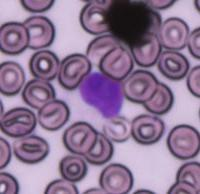M: (77, 69, 125, 120)
